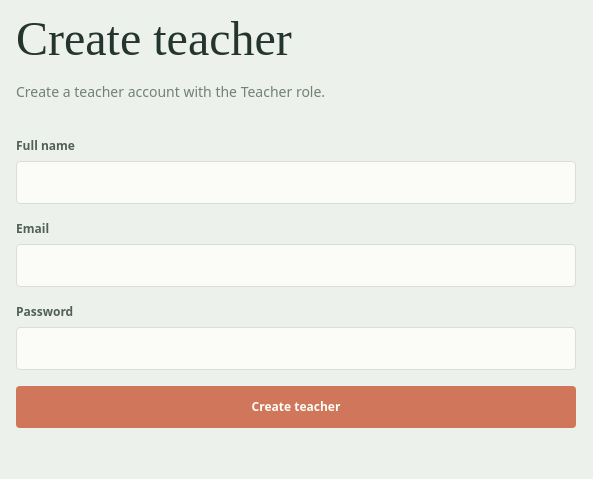
Test: CreateTeacherPage › shows the connection error when the error has no status
Step 1. Type "  Ravi Kumar  " into the field labelled "Full name" → [296, 182], box left=16, top=161, right=576, bottom=204
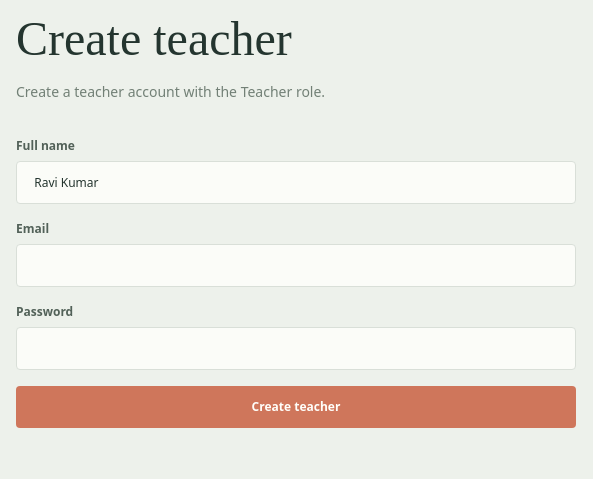
Step 2. Type "  ravi@example.com  " into the field labelled "Email" → [296, 265], box left=16, top=244, right=576, bottom=287
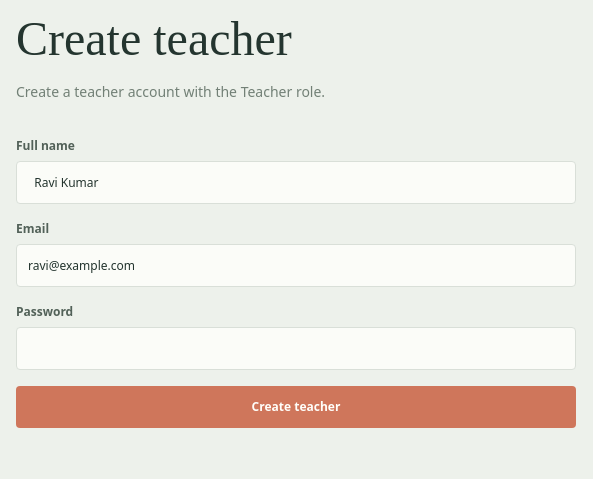
Step 3. Type "password123" into the password field labelled "Password" → [296, 348], box left=16, top=327, right=576, bottom=370
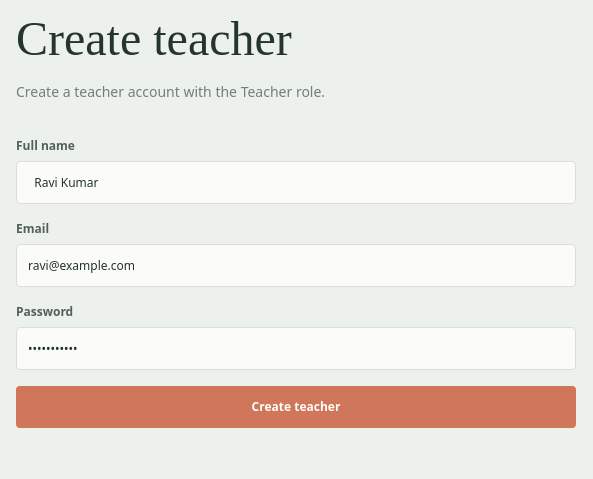
Step 4. Click the button "Create teacher" → [296, 407], box left=16, top=386, right=576, bottom=428
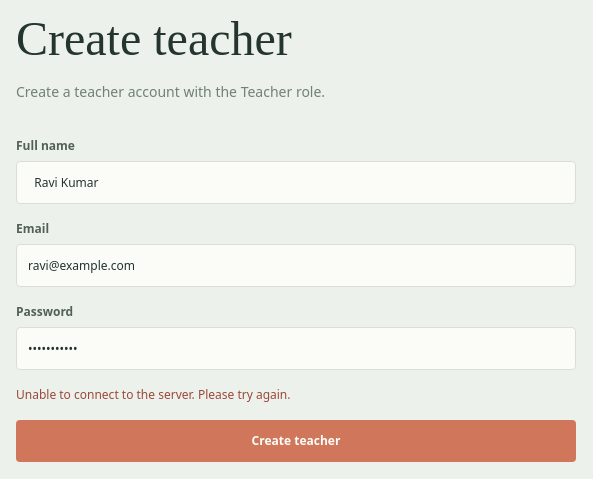
expect the message reads "Unable to connect to the server. Please try again.": met, box left=16, top=386, right=290, bottom=403
